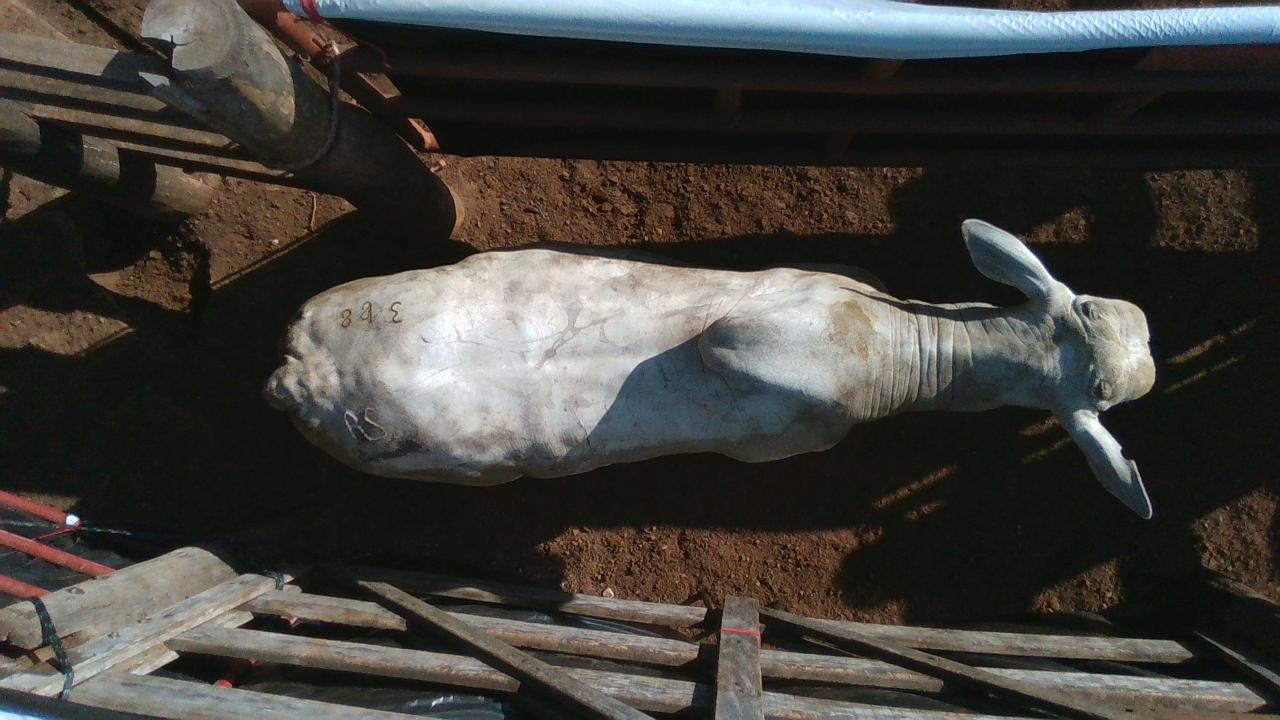cattle: (261, 216, 1158, 520)
